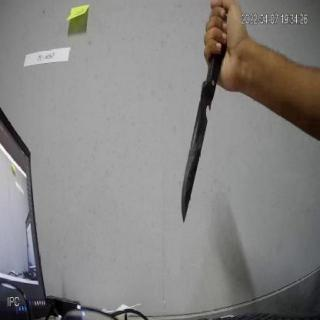knife: (180, 26, 228, 222)
